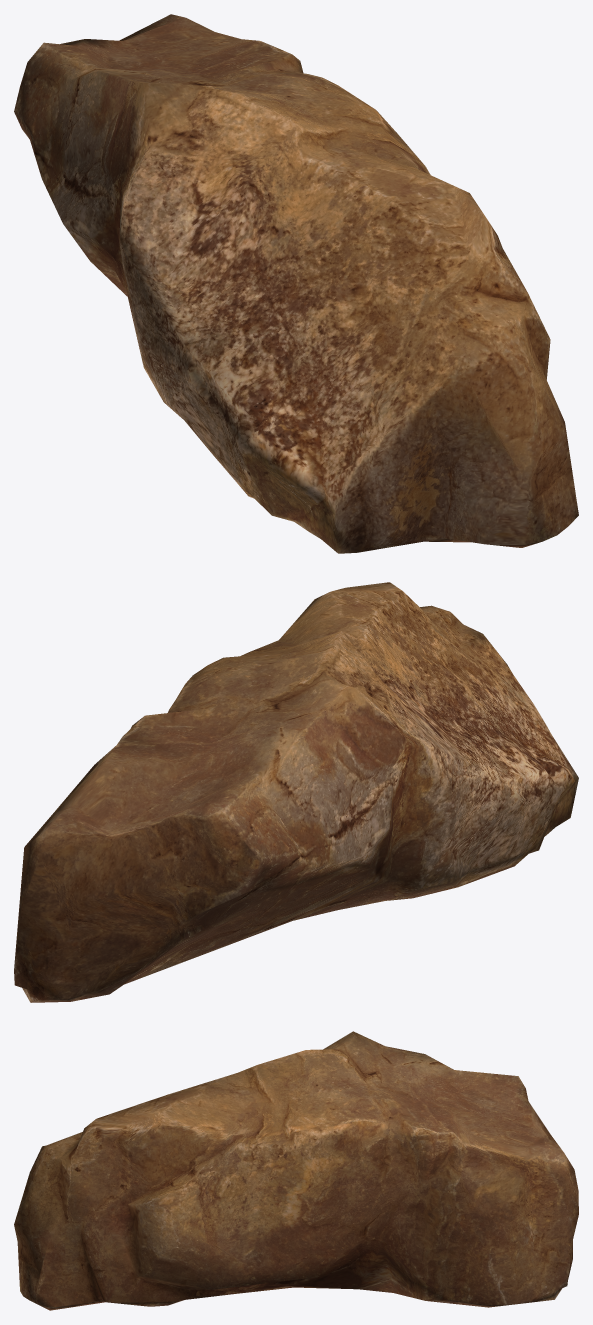
File: Rock_01.FBX
3 views of the same model, one above another, from view 1: azimuth 30°, elevation 25°; view 2: azimuth 150°, elevation 25°; view 3: azimuth 270°, elevation 25° (orthographic). The views are drawn at different scales.
Parts seen in each view (by area): view 1: Rock_01; view 2: Rock_01; view 3: Rock_01.
Boxes of the visible parts, box(x1,y1,x2,y2) form: Rock_01: box(14, 14, 578, 553); Rock_01: box(14, 582, 578, 1002); Rock_01: box(14, 1031, 578, 1310).
Bounding box in the file's own units: 5.75 × 5.5 × 12.88.
1 material, 1 textured.
